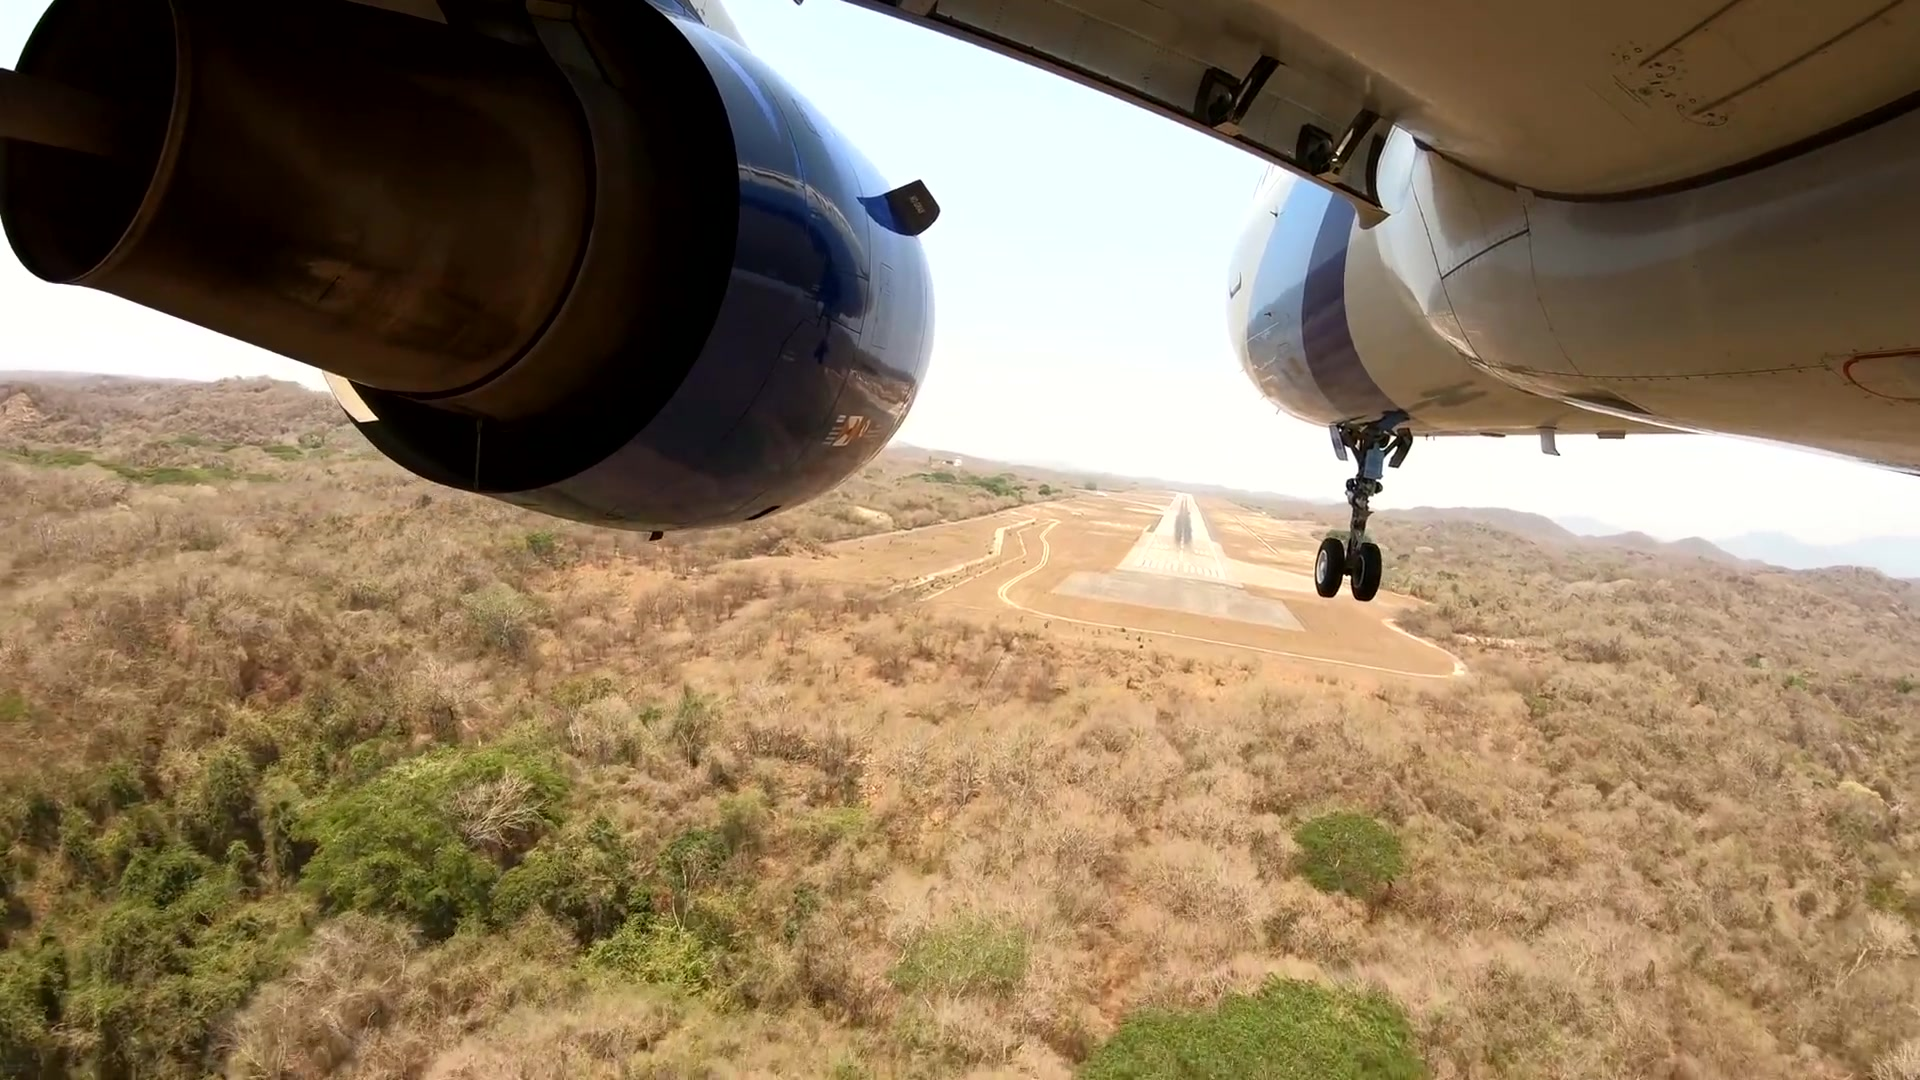entrance: (1135, 555, 1217, 578)
runway: (1121, 492, 1233, 587)
